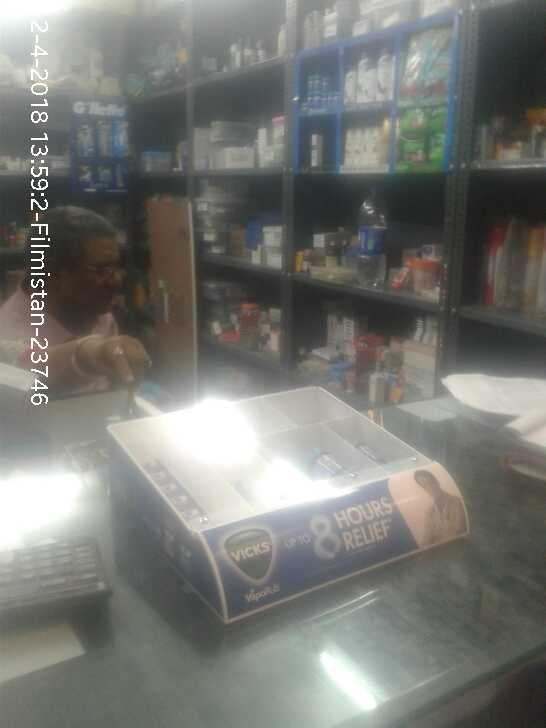vicks: (304, 71, 345, 106)
